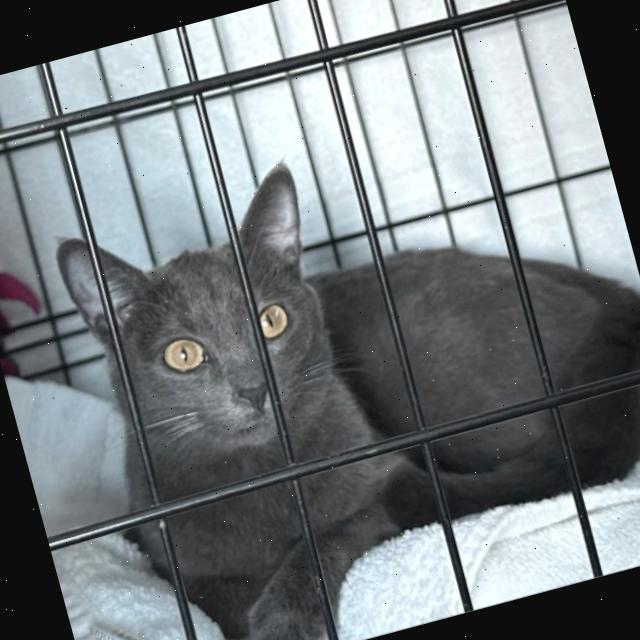russian_blue_cat: (36, 150, 377, 510)
